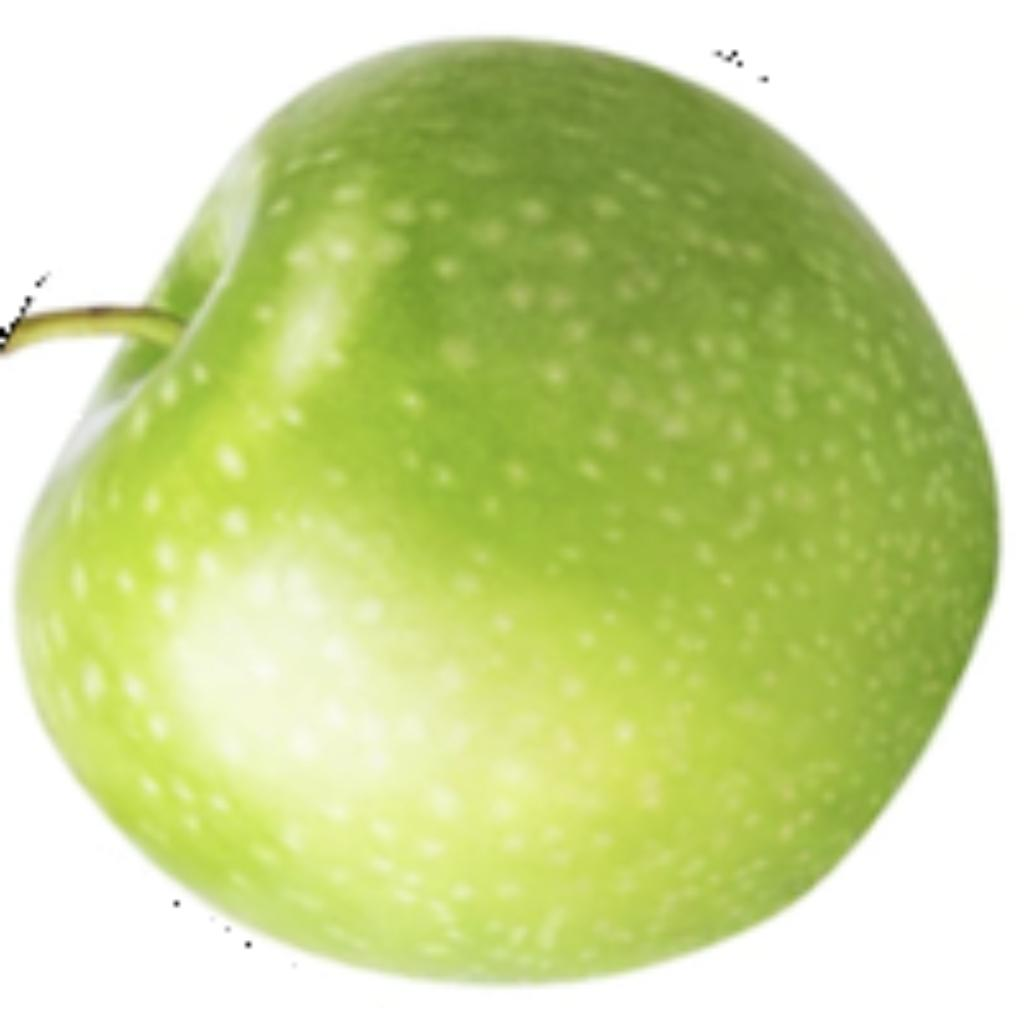apple: (5, 31, 1004, 988)
